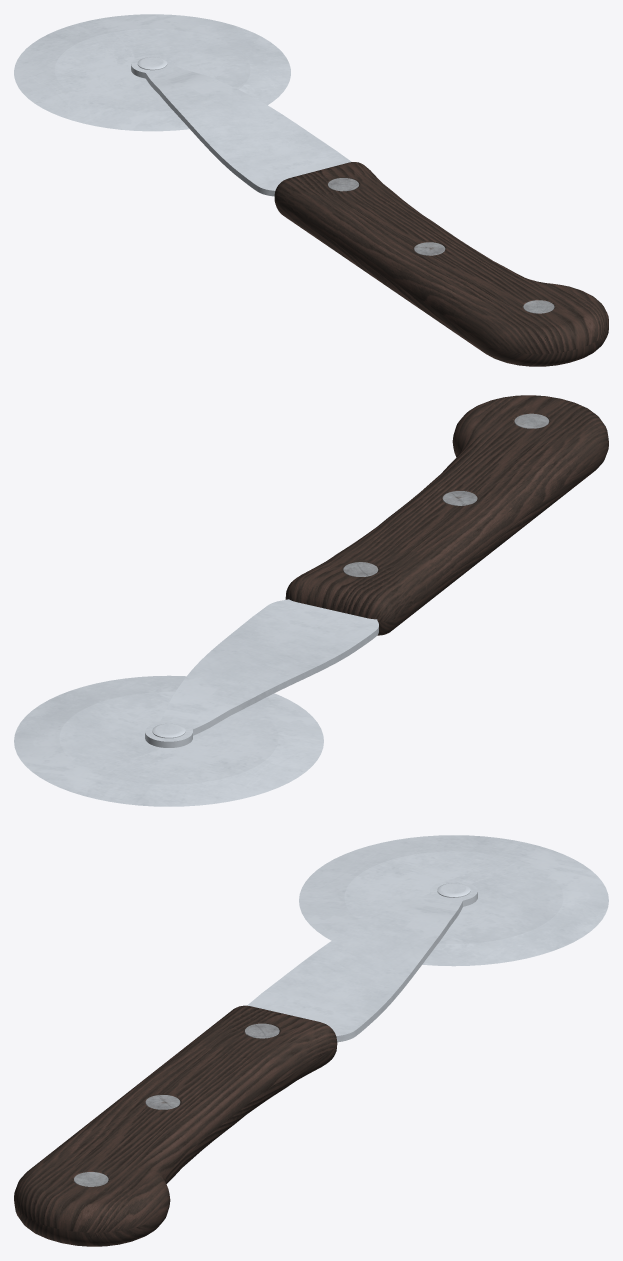
Rendered from knife-pizzacutter.fbx.
3 views of the same model, one above another, from view 1: azimuth 30°, elevation 25°; view 2: azimuth 150°, elevation 25°; view 3: azimuth 330°, elevation 25° (orthographic). The views are drawn at different scales.
Parts seen in each view (by area): view 1: knife_pizzacutter; view 2: knife_pizzacutter; view 3: knife_pizzacutter.
Part boxes in pixels (x1,y1,x2,y2): knife_pizzacutter: (14,14,608,366); knife_pizzacutter: (14,395,608,806); knife_pizzacutter: (14,835,608,1246).
Size of the model in its own units: 3.44 by 0.5142 by 11.37.
